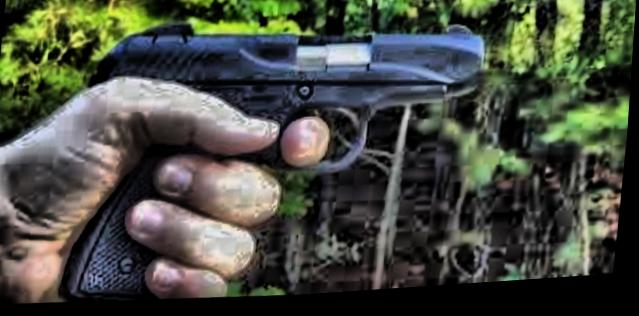pistol: (68, 7, 497, 312)
